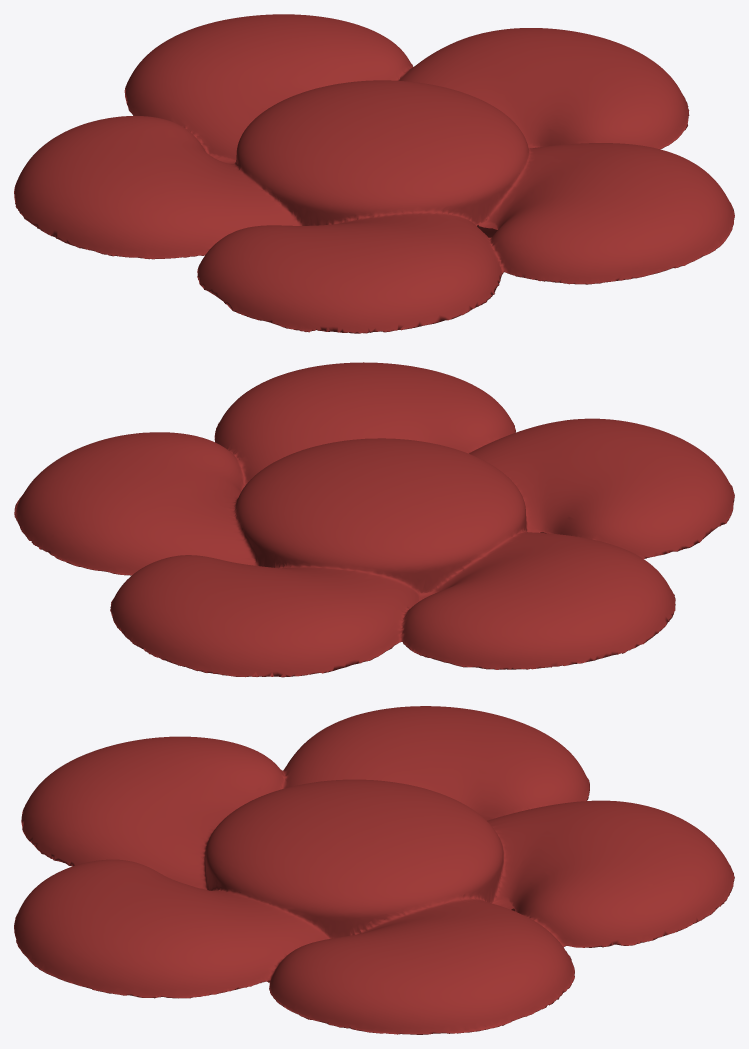
Rendered from decoration-blossom-draco.glb.
The picture shows the model from 3 angles, top to bottom: view 1: azimuth 30°, elevation 25°; view 2: azimuth 150°, elevation 25°; view 3: azimuth 270°, elevation 25°; orthographic projection. The views are drawn at different scales.
Visible parts, largest first — view 1: decoration_blossom; view 2: decoration_blossom; view 3: decoration_blossom.
Part boxes in pixels (x1,y1,x2,y2): decoration_blossom: [14, 14, 734, 333]; decoration_blossom: [14, 362, 734, 677]; decoration_blossom: [14, 706, 734, 1034].
Size of the model in its own units: 0.2417 by 0.0242 by 0.2366.
